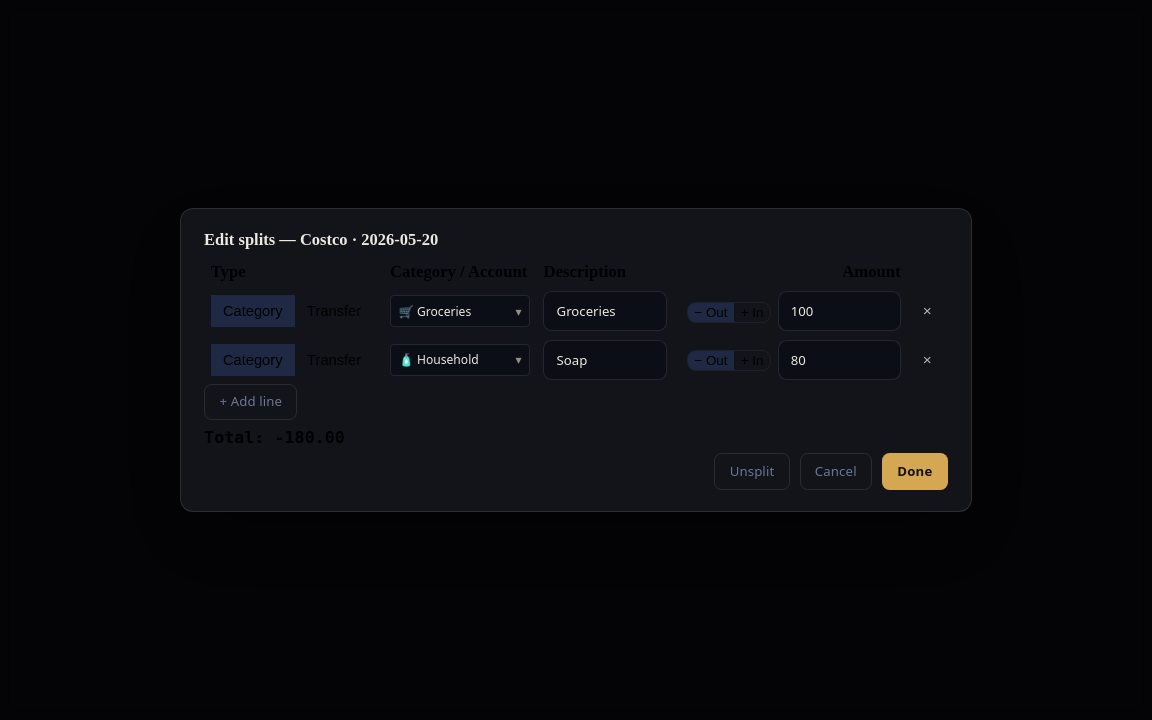
Test: SplitsEditor editing › flipping a row from Category to Transfer swaps picker controls
The width and height of the screenshot is (1152, 720).
Click the 1st button "Transfer" at x=334, y=311, box [295, 295, 374, 327]
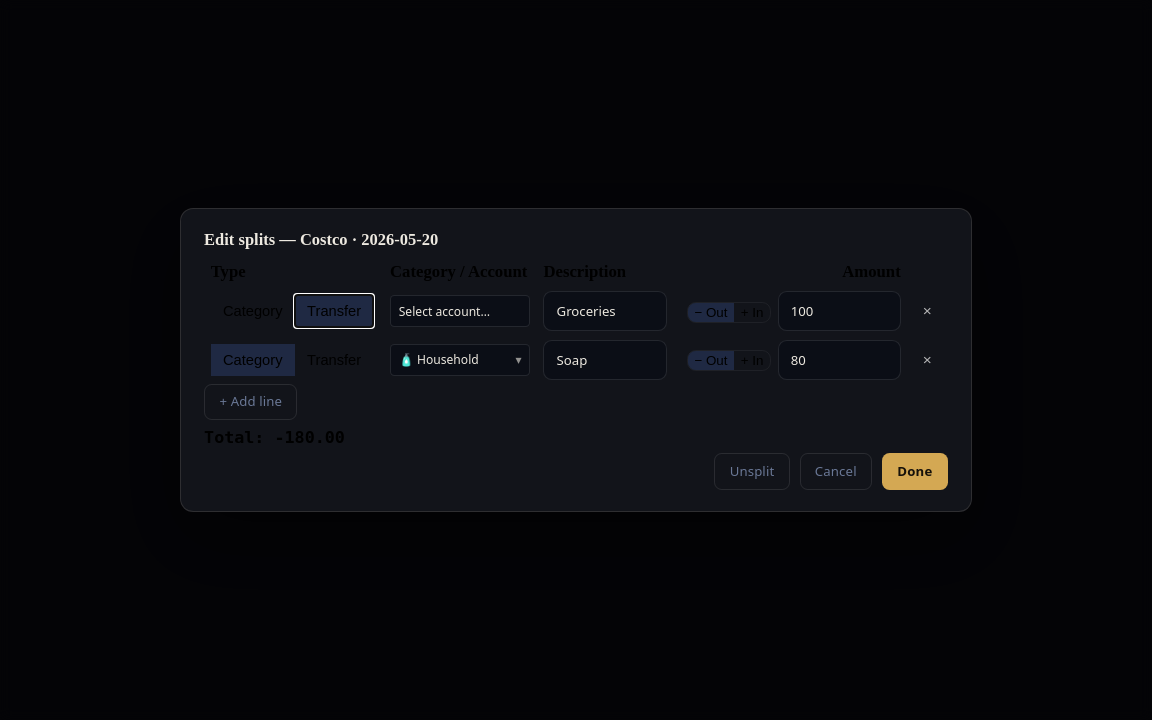
Expected: the number of dropdowns named "target account" is 1, [390, 295, 530, 327]
